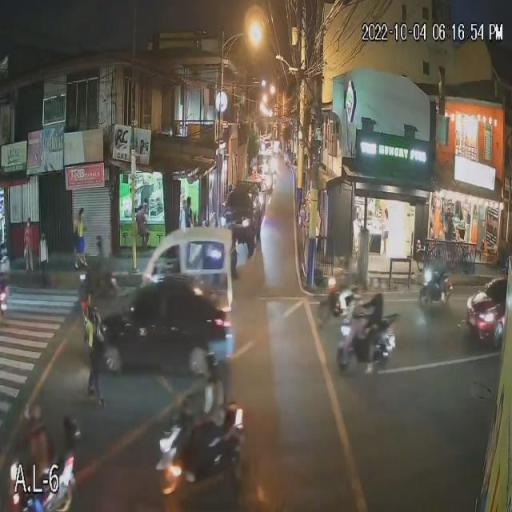helmet: (208, 376, 222, 392), (362, 280, 376, 295), (428, 253, 440, 265)
motorcycle: (155, 397, 246, 511), (0, 447, 78, 511), (334, 301, 400, 376), (318, 273, 354, 327), (418, 266, 454, 308)
rider: (184, 385, 234, 469), (15, 398, 61, 478), (350, 280, 386, 362), (324, 264, 358, 318), (424, 250, 447, 292)
